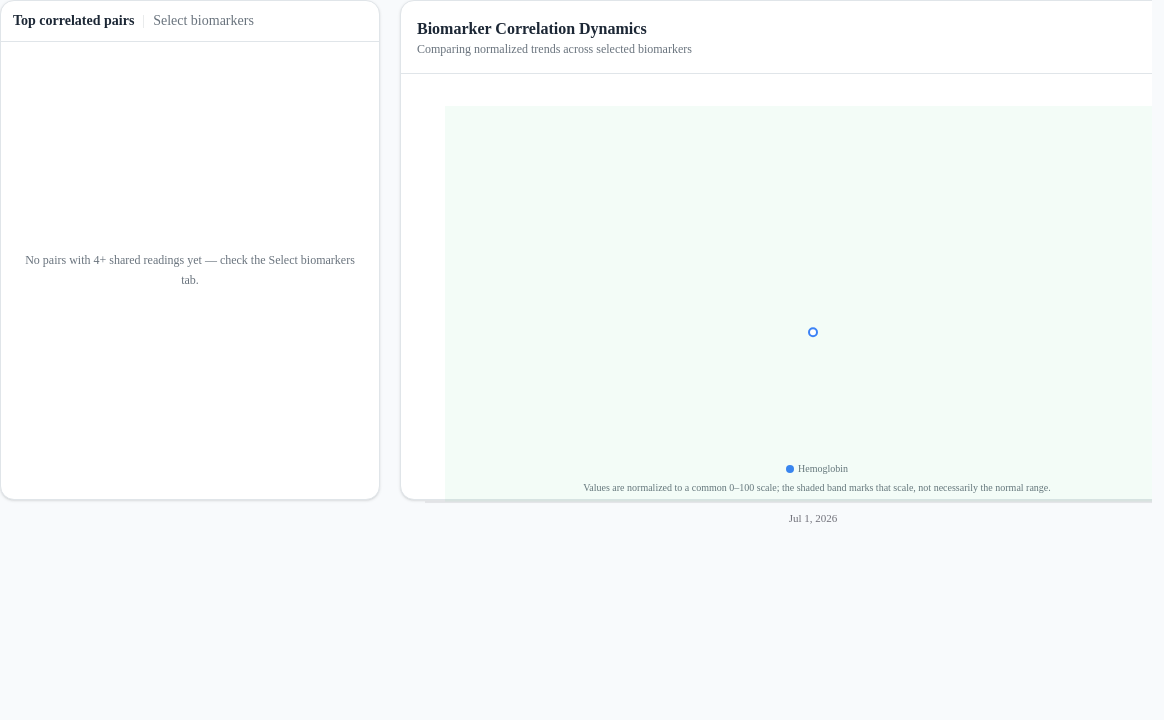
Test case: CorrelationChart › shows the select prompt again when the user unchecks everything
The width and height of the screenshot is (1164, 720).
Click the button "Select biomarkers".
click(204, 21)  # box 153,11 -> 254,31
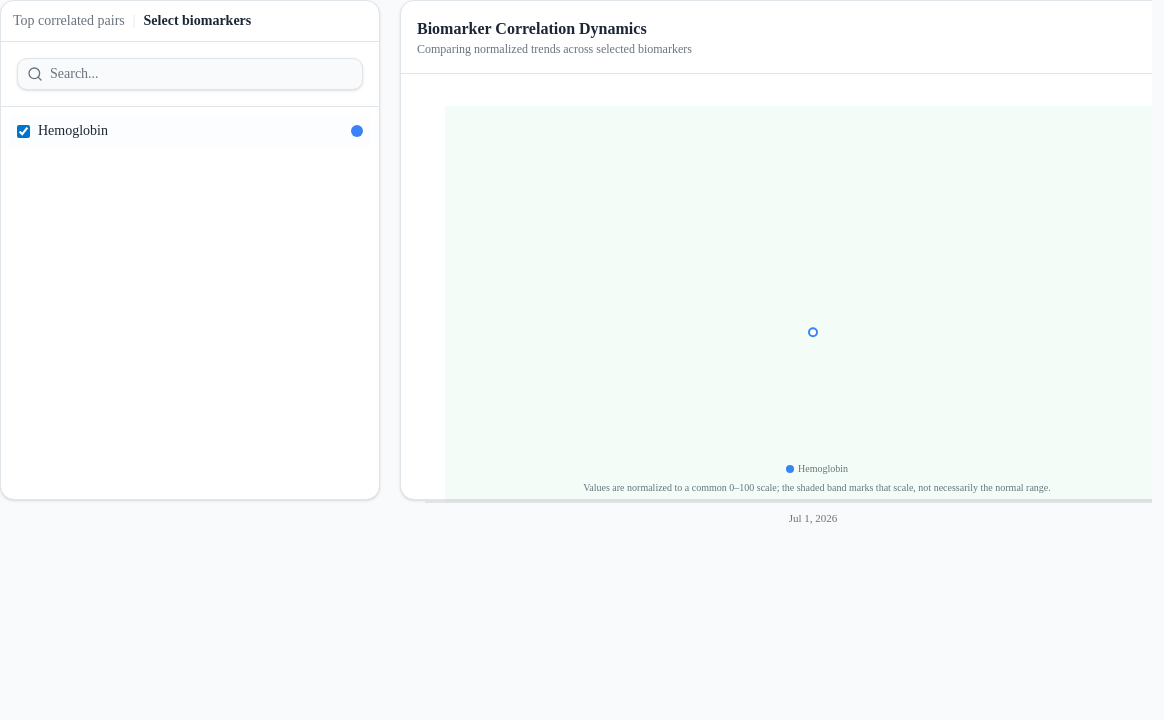
Click the checkbox labelled "Hemoglobin".
click(24, 131)  # box 17,124 -> 30,138
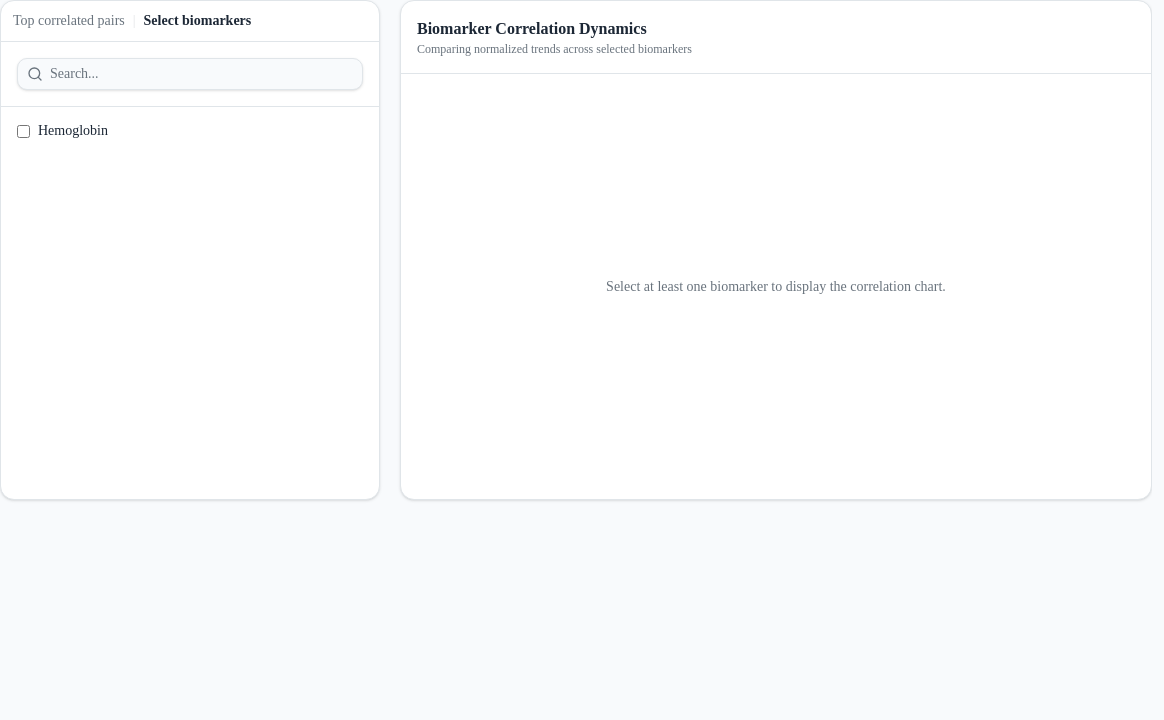
Result: the text "Select at least one biomarker to display the correlation chart." is shown at 606,278 -> 946,294
